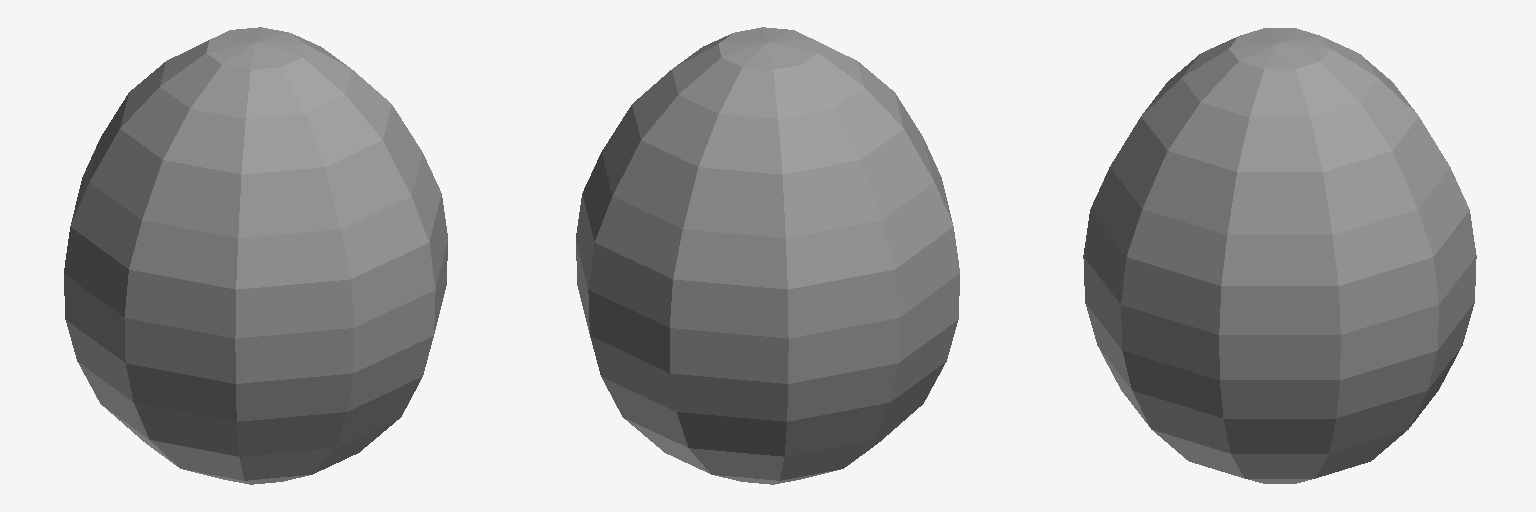
Rendered from egg.obj.
3 renders of one model, left to right at view 1: azimuth 30°, elevation 25°; view 2: azimuth 150°, elevation 25°; view 3: azimuth 270°, elevation 25°, orthographic.
Parts seen in each view (by area): view 1: Sphere; view 2: Sphere; view 3: Sphere.
Boxes of the visible parts, x1=… form: Sphere: x1=64, y1=27, x2=447, y2=484; Sphere: x1=576, y1=27, x2=959, y2=484; Sphere: x1=1083, y1=28, x2=1476, y2=483.
Size of the model in its own units: 4.74 by 5.97 by 4.99.